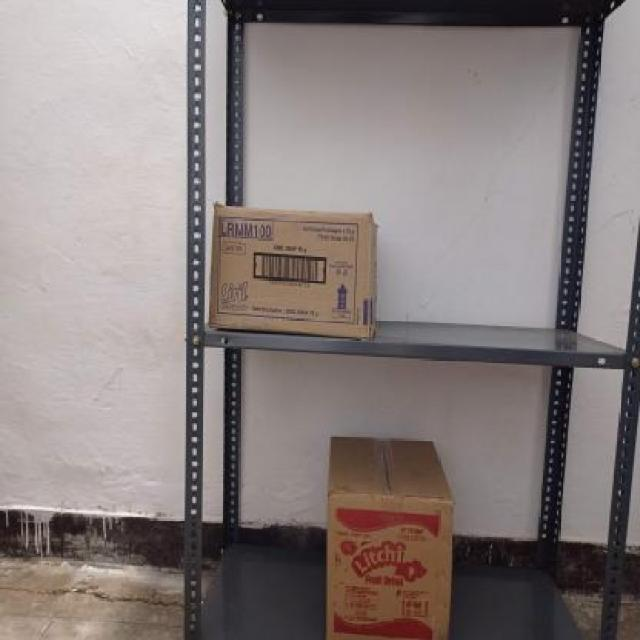box: (209, 207, 375, 326), (326, 497, 457, 640)
